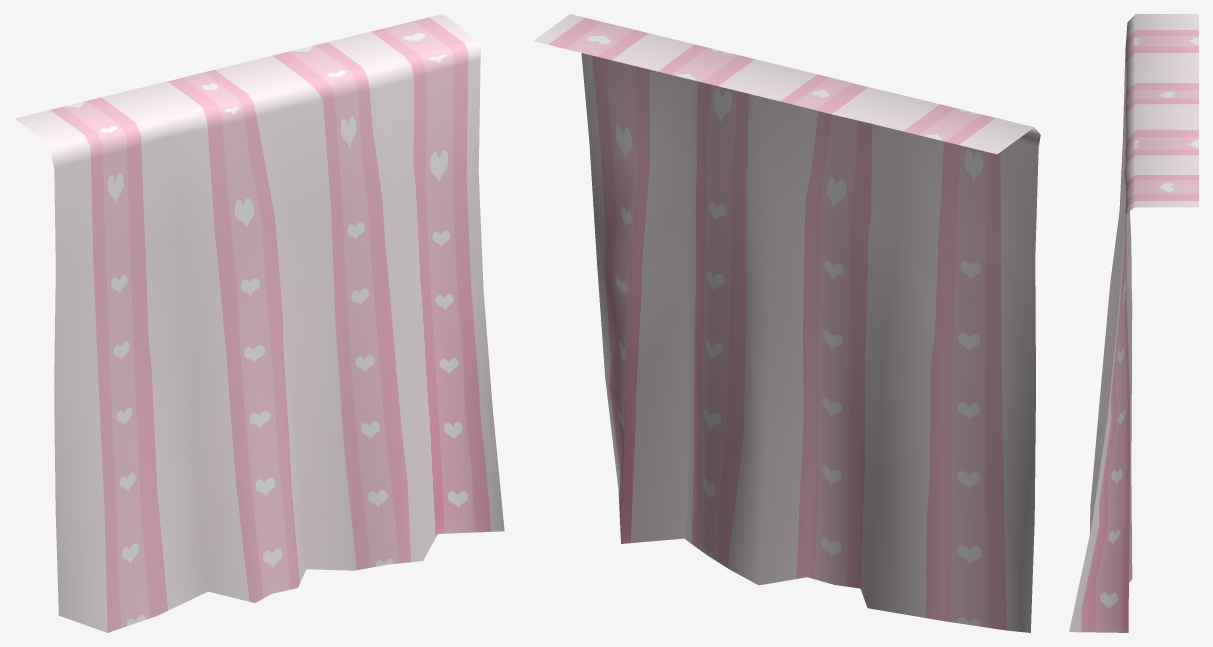
File: fabric.fbx
3 renders of one model, left to right at view 1: azimuth 30°, elevation 25°; view 2: azimuth 150°, elevation 25°; view 3: azimuth 270°, elevation 25°, orthographic. The views are drawn at different scales.
Visible parts, largest first — view 1: Plane001; view 2: Plane001; view 3: Plane001.
Boxes of the visible parts, <box> form: Plane001: <box>14,14,504,632</box>; Plane001: <box>533,14,1040,632</box>; Plane001: <box>1069,14,1198,632</box>.
Bounding box in the file's own units: 1716 × 1866 × 486.
